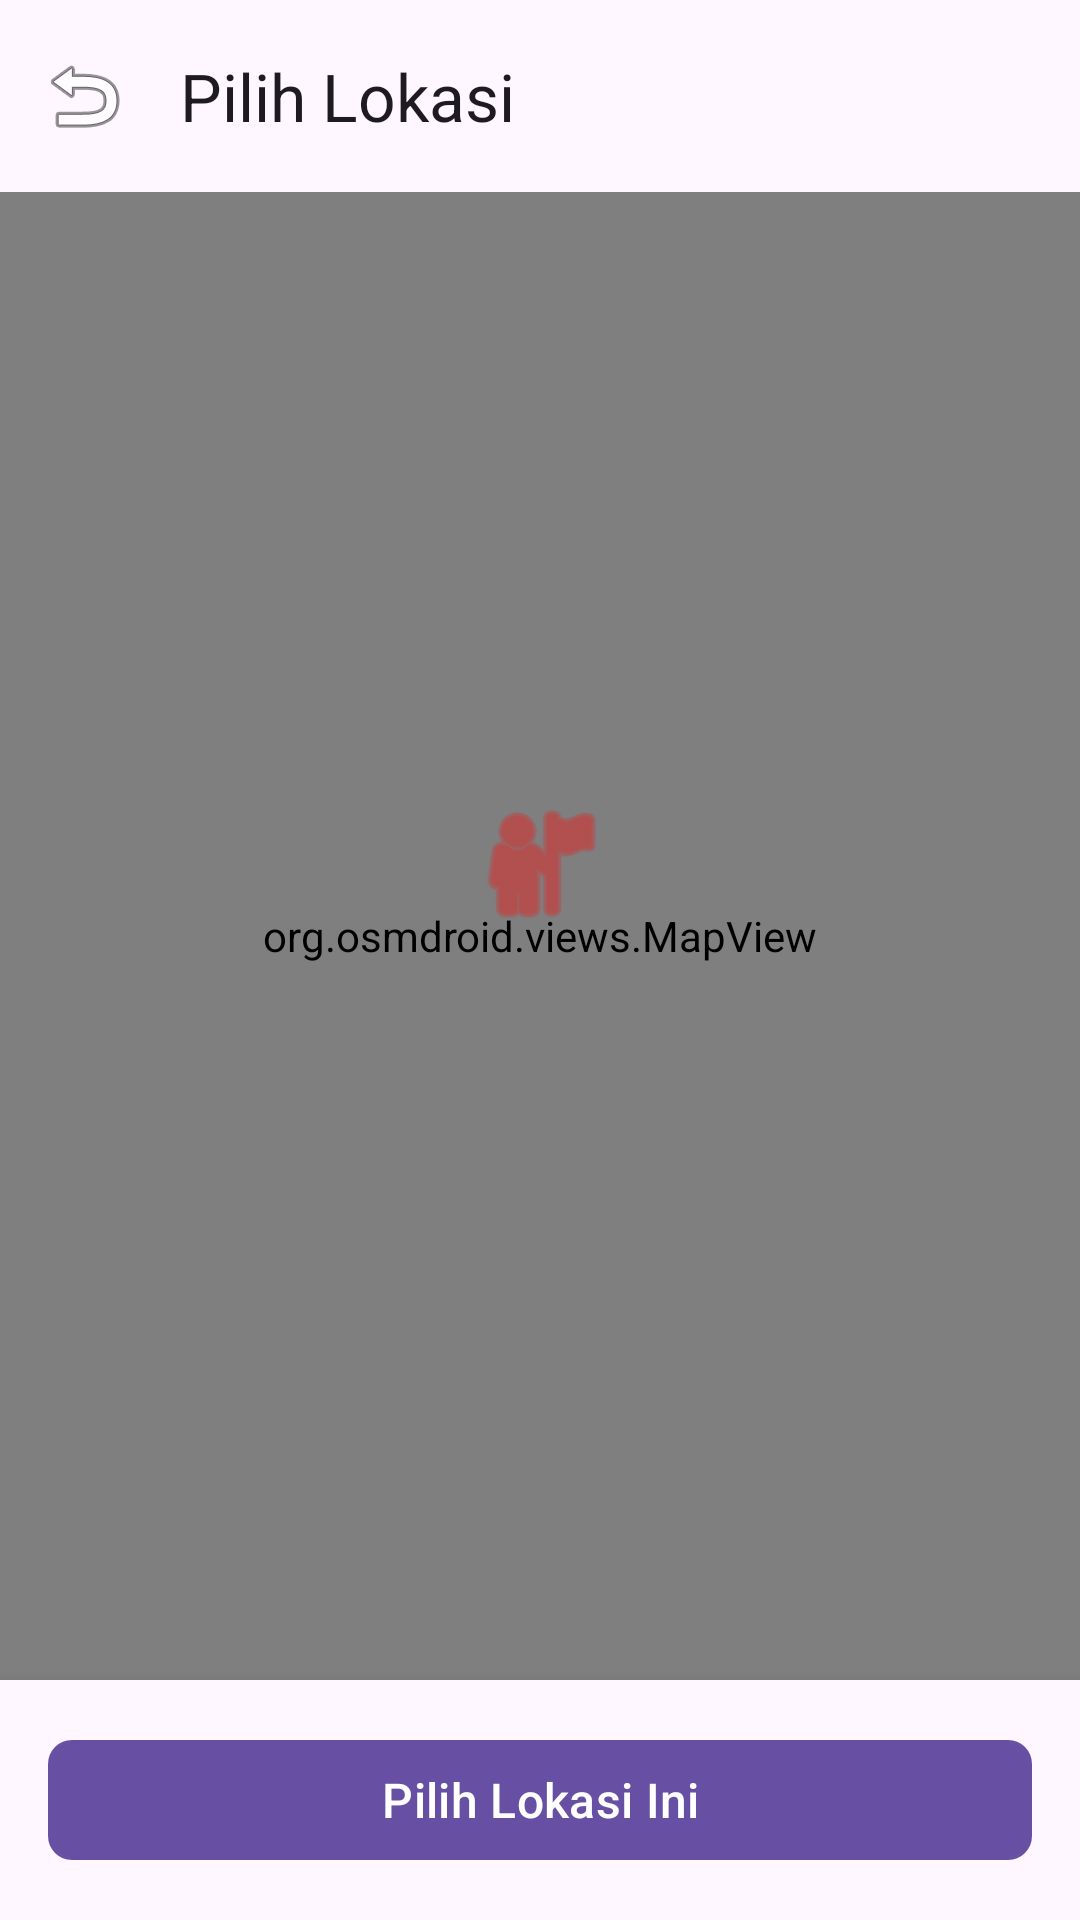

Locate icon controls on the screen. Image size 1080 x 1920, boxes as {"left": x1, "top": y1, "right": x2, "bottom": y2}.
myplaces: {"left": 483, "top": 811, "right": 595, "bottom": 926}
